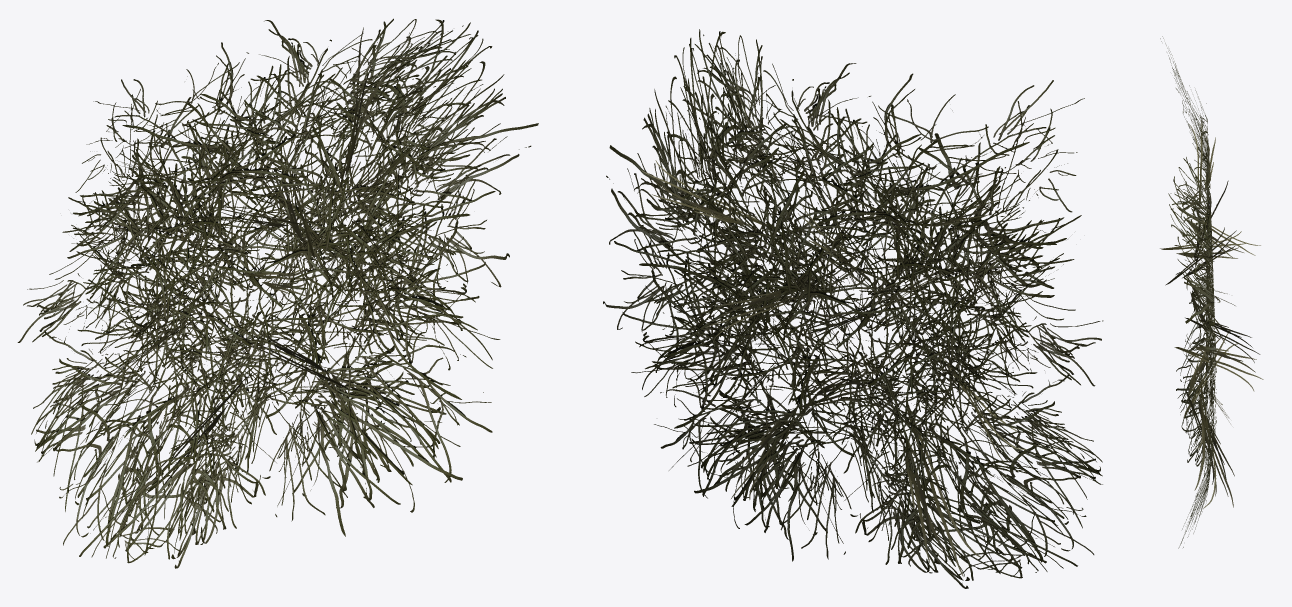
Rendered from TI_Grass_04.fbx.
3 views of the same model, side by side, from view 1: azimuth 30°, elevation 25°; view 2: azimuth 150°, elevation 25°; view 3: azimuth 270°, elevation 25° (orthographic). The views are drawn at different scales.
Visible parts, largest first — view 1: TI_Grass_04; view 2: TI_Grass_04; view 3: TI_Grass_04.
Part boxes in pixels (left/top/right/bottom): TI_Grass_04: left=17, top=18, right=538, bottom=568; TI_Grass_04: left=603, top=29, right=1103, bottom=588; TI_Grass_04: left=1160, top=36, right=1263, bottom=548.
Size of the model in its own units: 3.57 by 3.56 by 1.01.
1 material, 1 textured.
